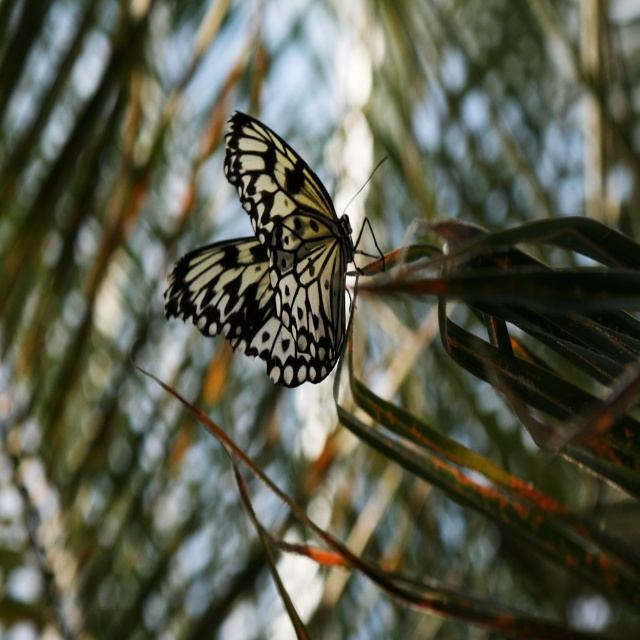Butterfly: (165, 116, 402, 393)
